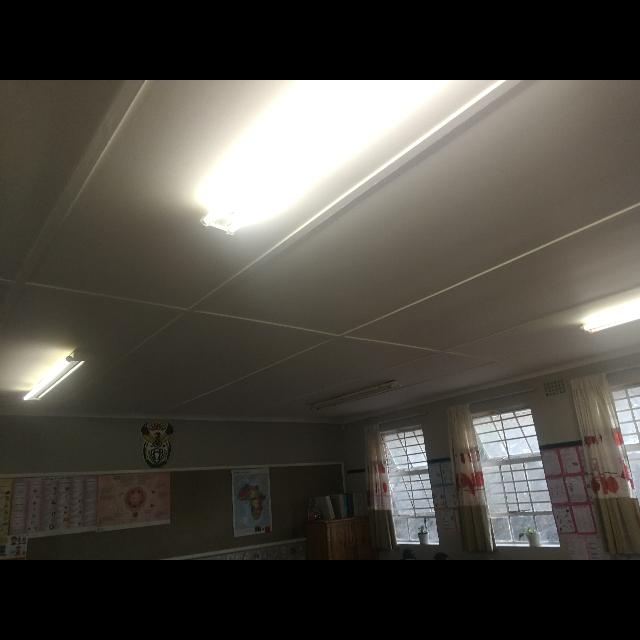Straight-Tube-Fluorescent-Lamp: (185, 80, 495, 242), (15, 338, 87, 410), (562, 286, 640, 344)
